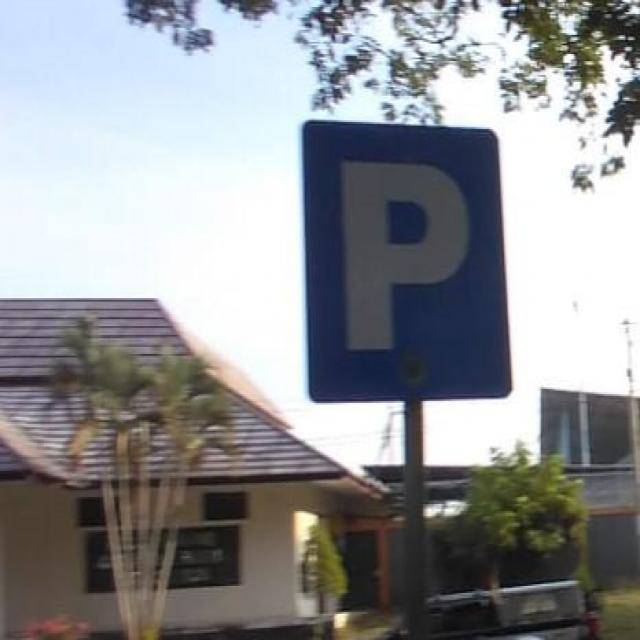traffic sign: (301, 117, 512, 402)
